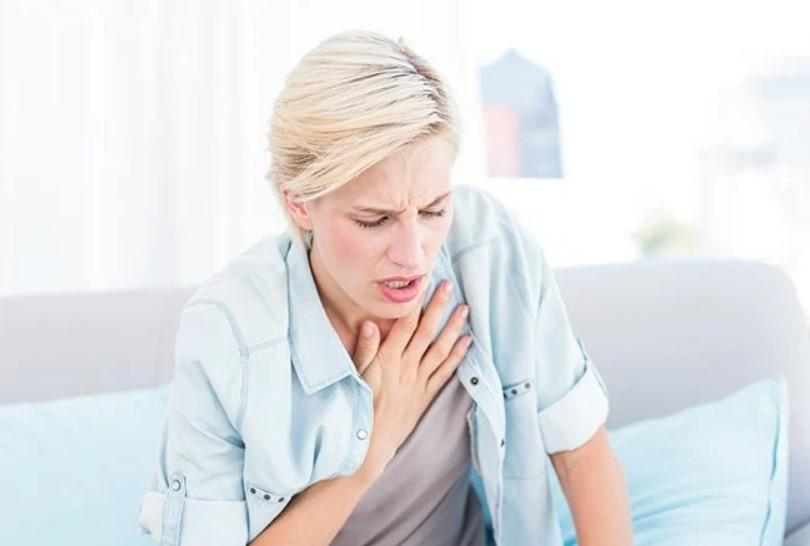pain: (333, 193, 462, 232)
